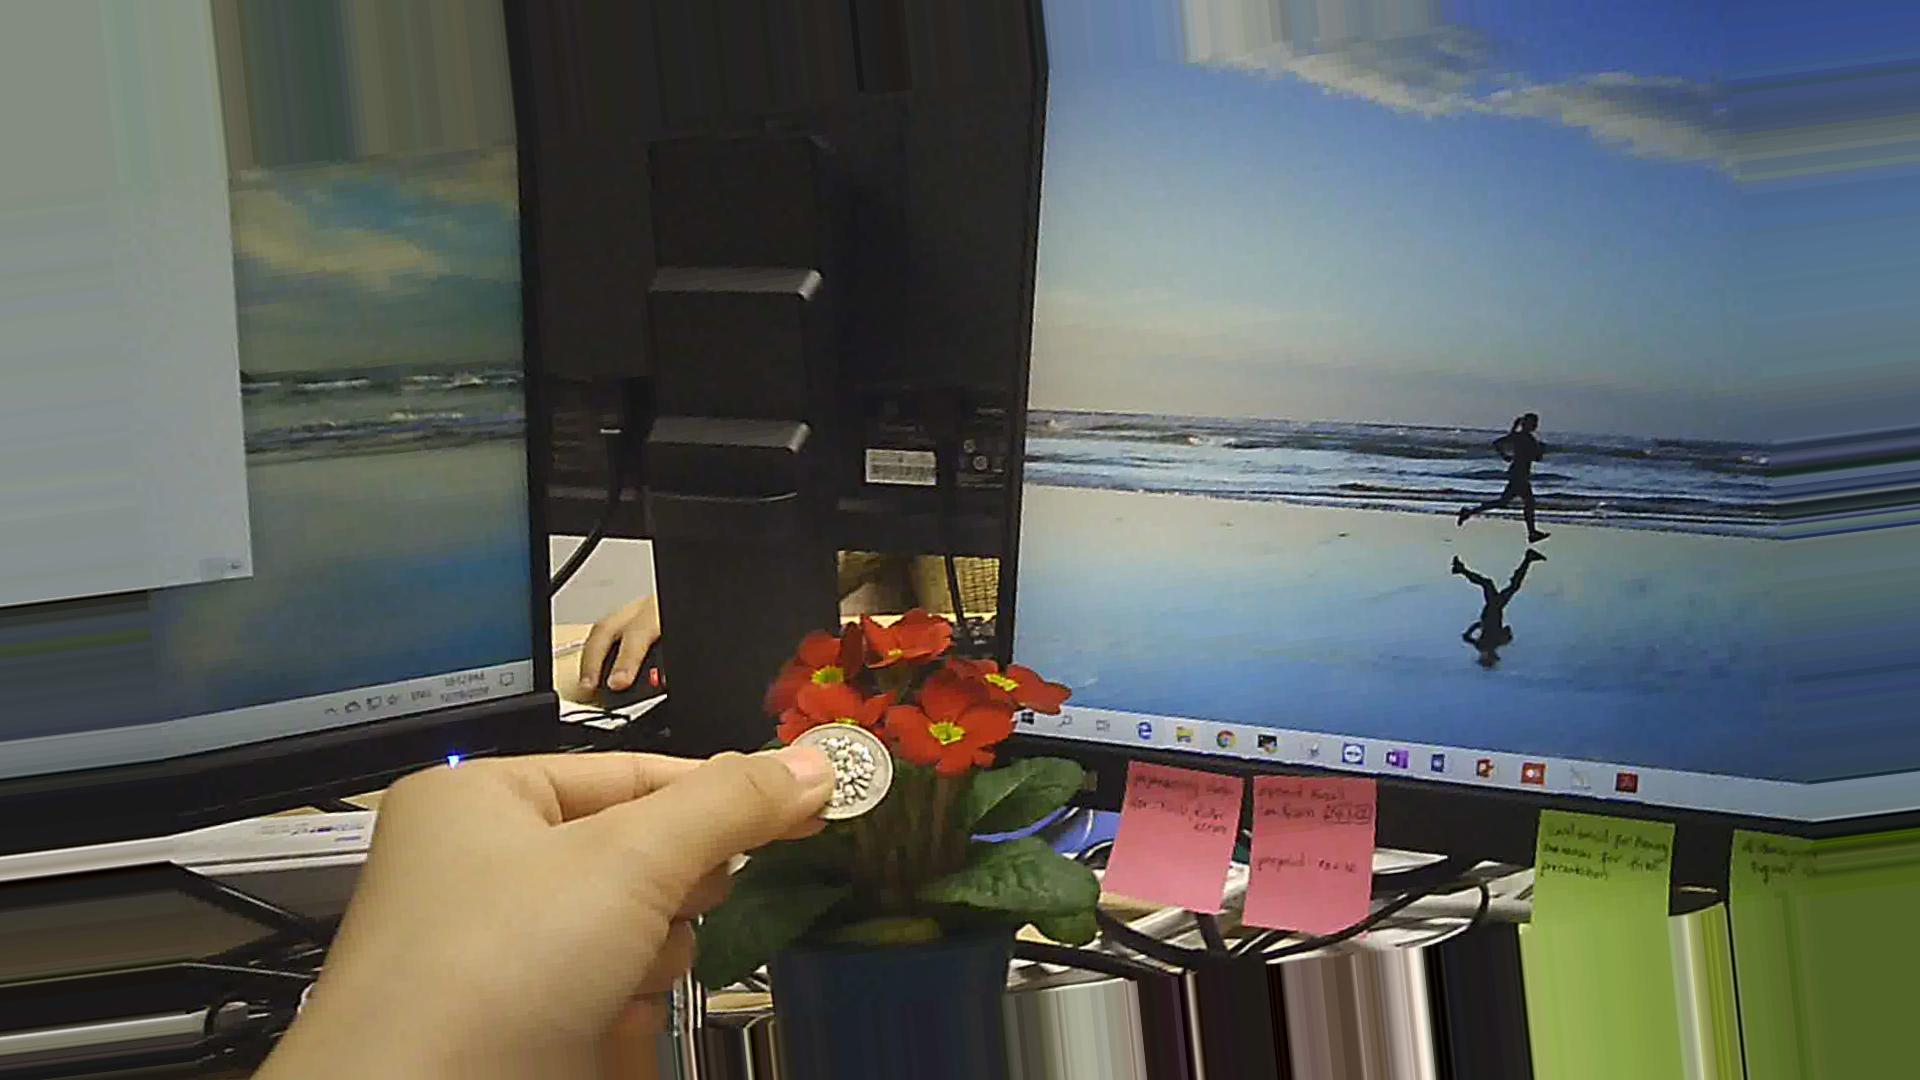100 Yen: (778, 721, 901, 833)
